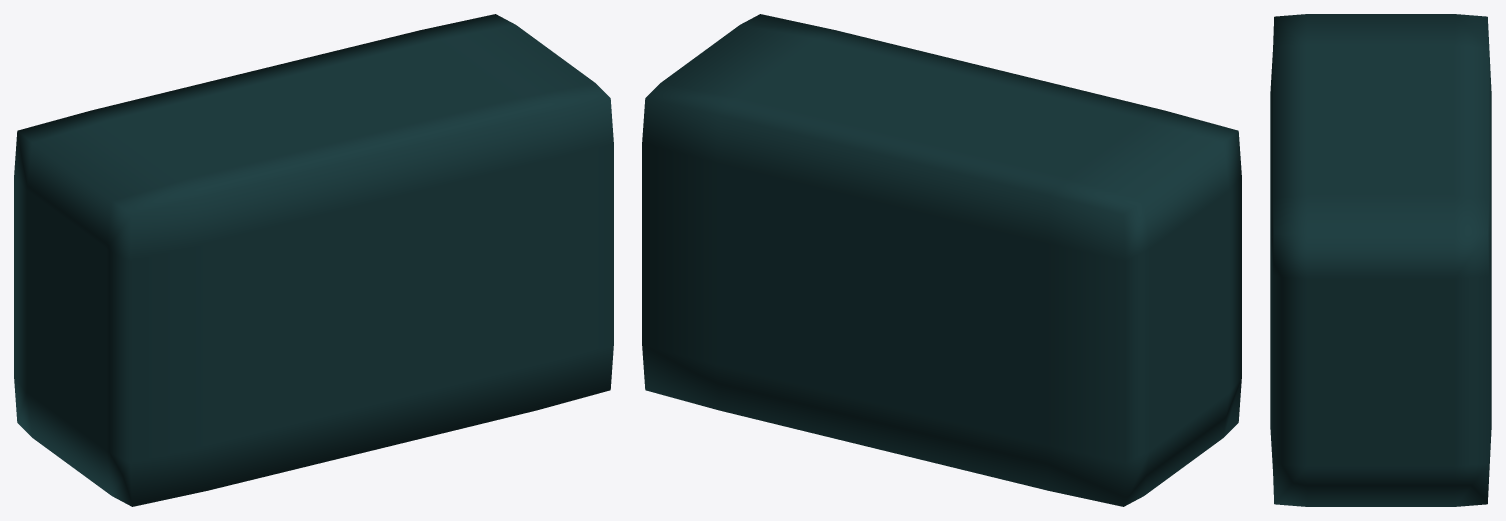
The model's file is 202_capteur_emplacement_avant.glb.
3 views of the same model, side by side, from view 1: azimuth 30°, elevation 25°; view 2: azimuth 150°, elevation 25°; view 3: azimuth 270°, elevation 25° (orthographic). The views are drawn at different scales.
Visible parts, largest first — view 1: AGV_capteur_emplacement_avant; view 2: AGV_capteur_emplacement_avant; view 3: AGV_capteur_emplacement_avant.
Part boxes in pixels (<box>): AGV_capteur_emplacement_avant: <box>14,14,613,506</box>; AGV_capteur_emplacement_avant: <box>642,14,1241,506</box>; AGV_capteur_emplacement_avant: <box>1270,14,1491,506</box>.
Size of the model in its own units: 0.06 by 0.035 by 0.025.
